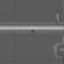dust: (30, 29, 34, 32)
